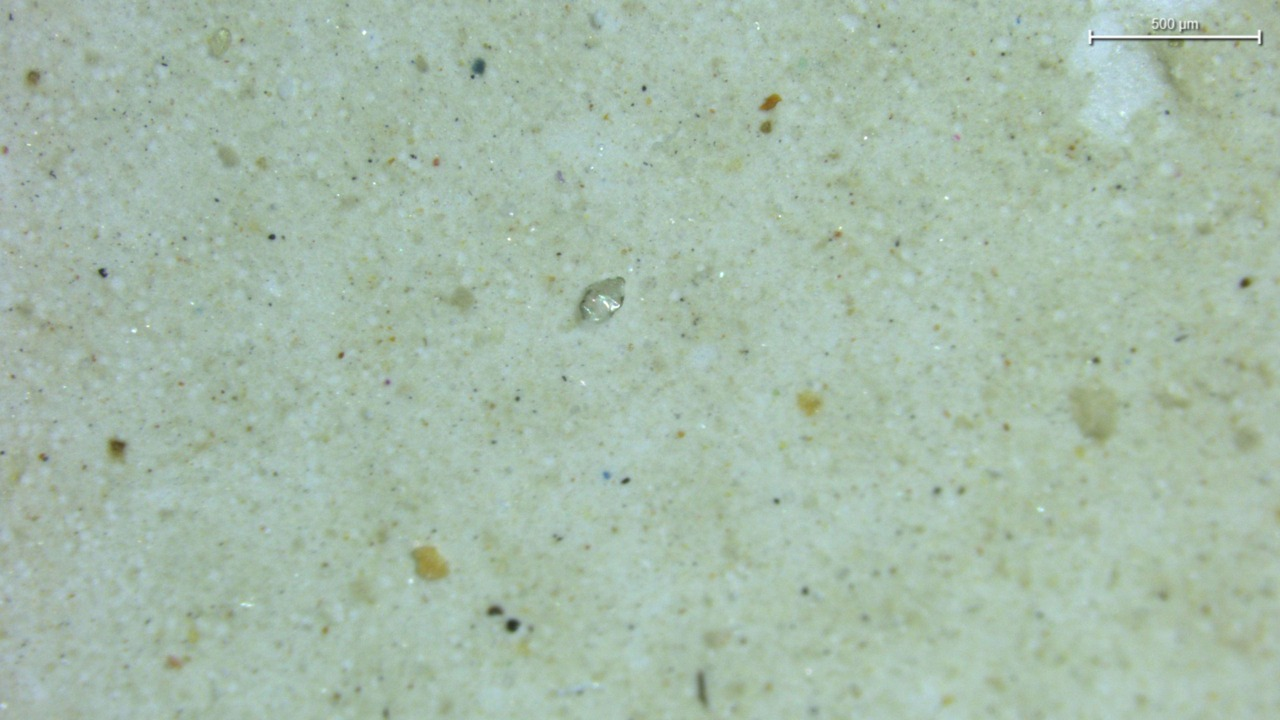microplastic_fragment: (579, 277, 624, 322)
